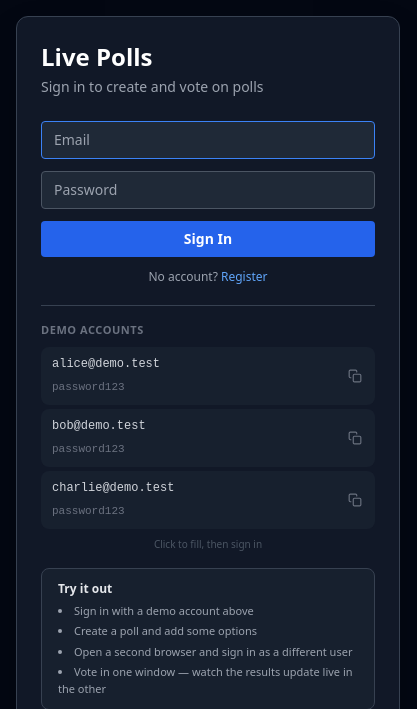
Test: AuthForm › shows an error message when login fails
Type "user@test.com" into the field with placeholder "Email" at (208, 140), box [41,121,375,159]
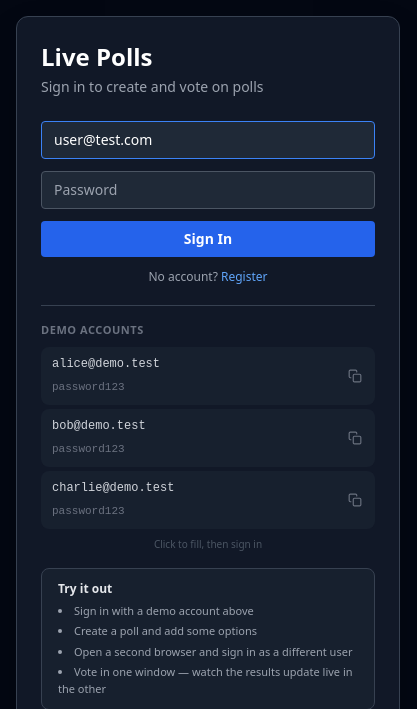
Type "wrongpassword" into the password field with placeholder "Password" at (208, 190), box [41,171,375,209]
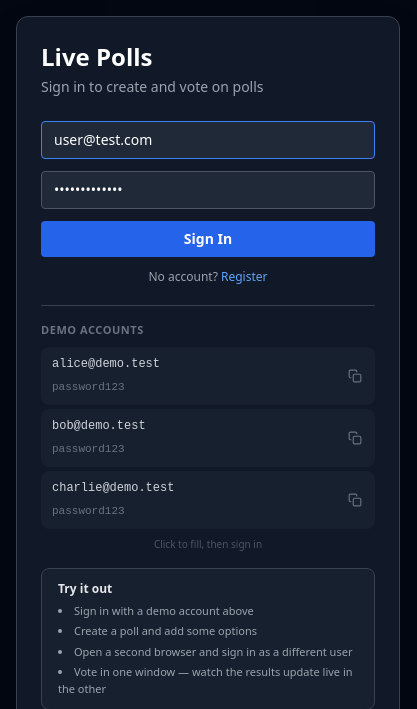
Submit the form "Sign In", box [41,121,375,257]
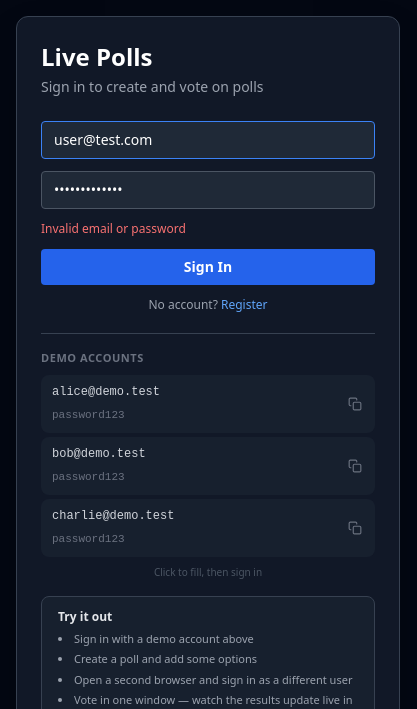
Now the text "Invalid email or password" is shown, box [41,220,186,237]
